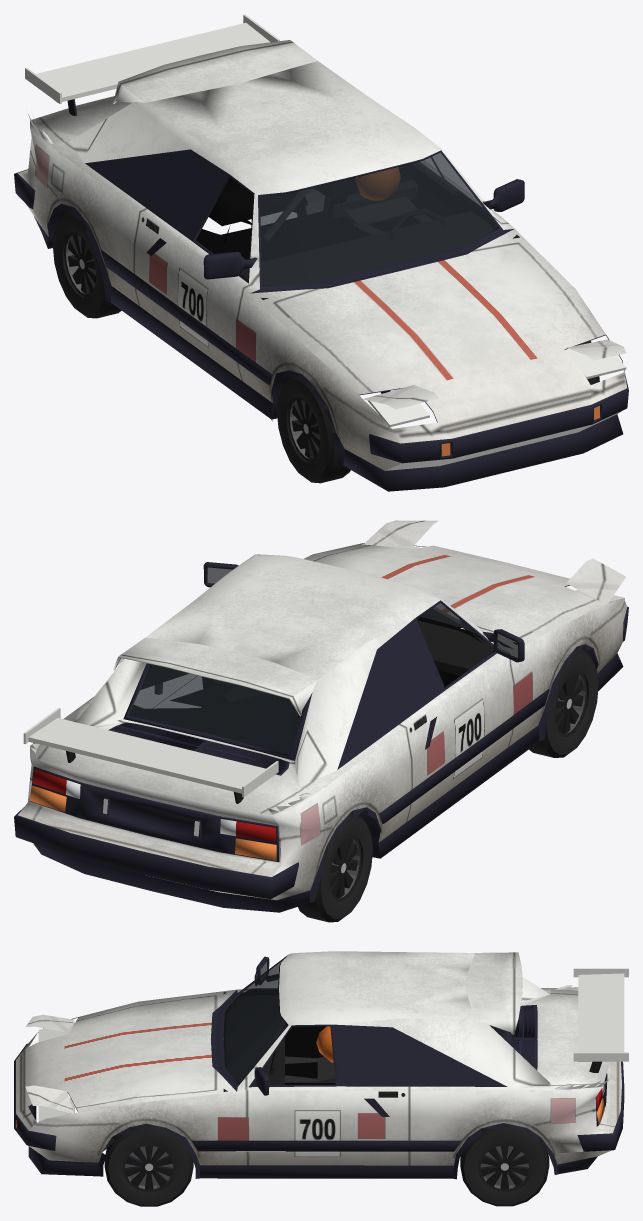
The picture shows the model from 3 angles, top to bottom: view 1: azimuth 30°, elevation 25°; view 2: azimuth 150°, elevation 25°; view 3: azimuth 270°, elevation 25°; orthographic projection. The views are drawn at different scales.
Parts seen in each view (by area): view 1: body, wheel_fr, wheel_rr; view 2: body, wheel_rr, wheel_fr; view 3: body, wheel_fl, wheel_rl.
Part boxes in pixels (x1,y1,x2,y2): body: (14, 14, 628, 491); wheel_fr: (277, 374, 350, 483); wheel_rr: (53, 208, 121, 318); body: (14, 520, 628, 912); wheel_rr: (298, 812, 372, 922); wheel_fr: (529, 648, 598, 757); body: (14, 951, 628, 1179); wheel_fl: (104, 1124, 193, 1206); wheel_rl: (460, 1123, 549, 1206).
Size of the model in its own units: 1.91 by 1.25 by 4.01.
Materials: 2 (1 with a texture image).
